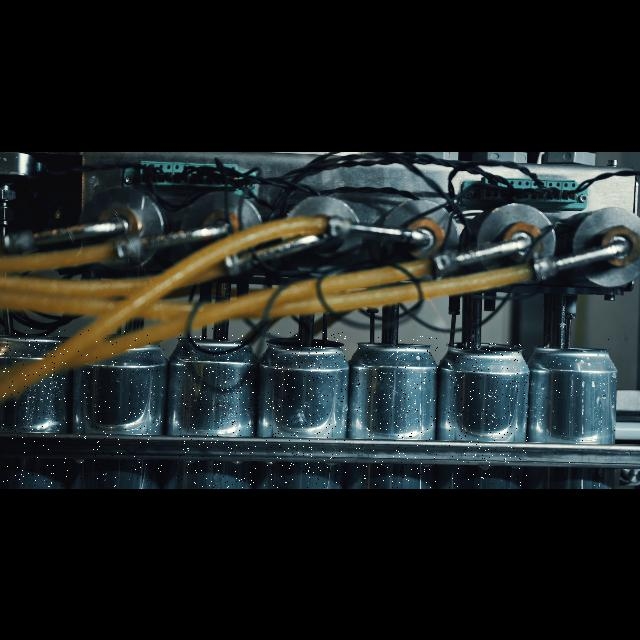empty: (78, 330, 164, 488), (178, 328, 256, 488), (266, 332, 346, 488), (356, 336, 438, 488), (535, 338, 615, 488), (448, 342, 528, 488), (2, 328, 68, 488)
